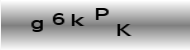6: (51, 13, 66, 26)
K: (115, 22, 132, 39)
P: (94, 6, 110, 21)
g: (30, 19, 44, 33)
k: (71, 13, 86, 27)
